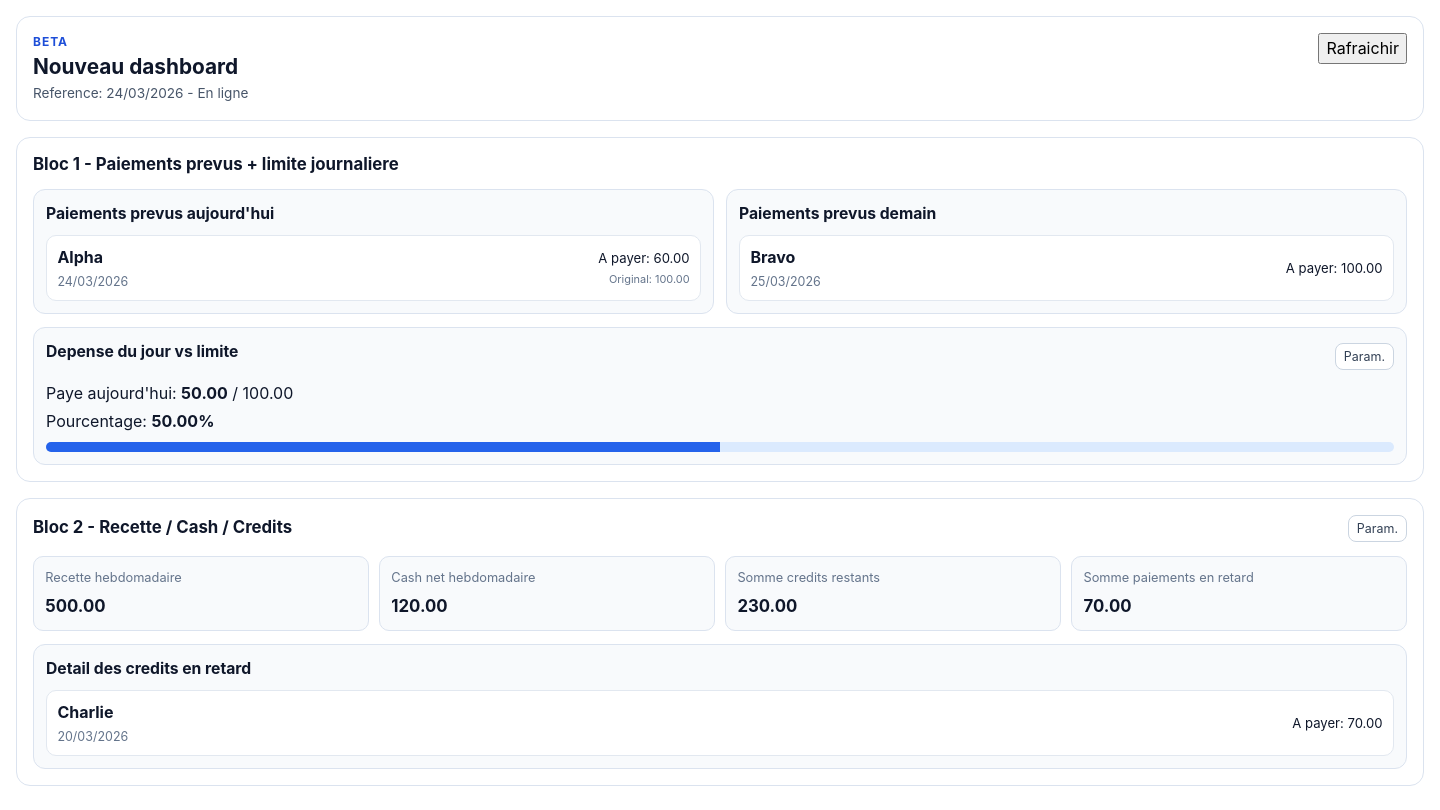
Test: DashboardNext › saves and clears the daily limit from modal
Check: the heading "Depense du jour vs limite" is shown, box [46,340,238,365]
Click the button with aria-label "Parametres limite quotidienne" at (1364, 357), box [1335,343,1394,370]
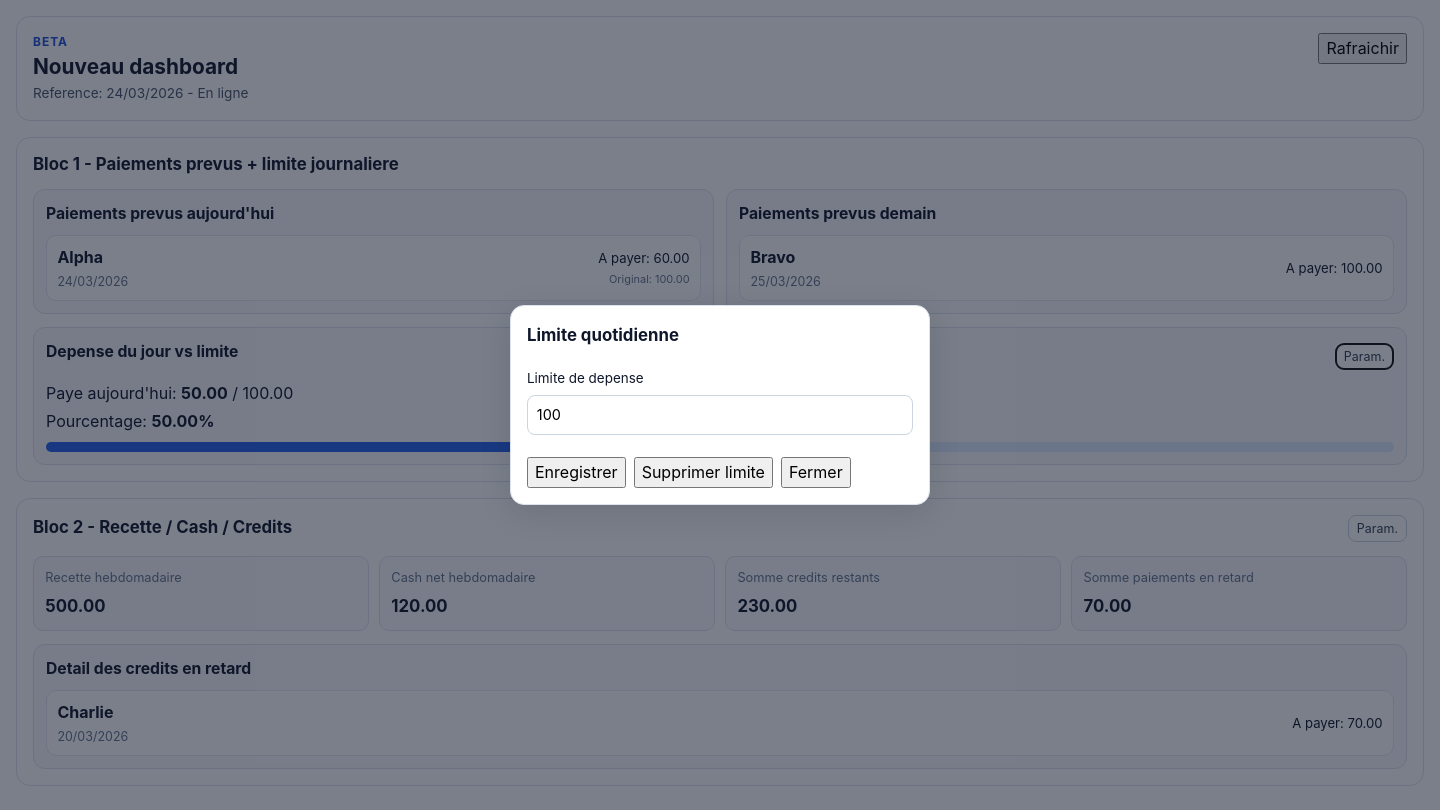
Check: the number field labelled "Limite de depense" holds "100"
Replace the text in the number field labelled "Limite de depense" with "200" at (720, 415), box [527,395,913,435]
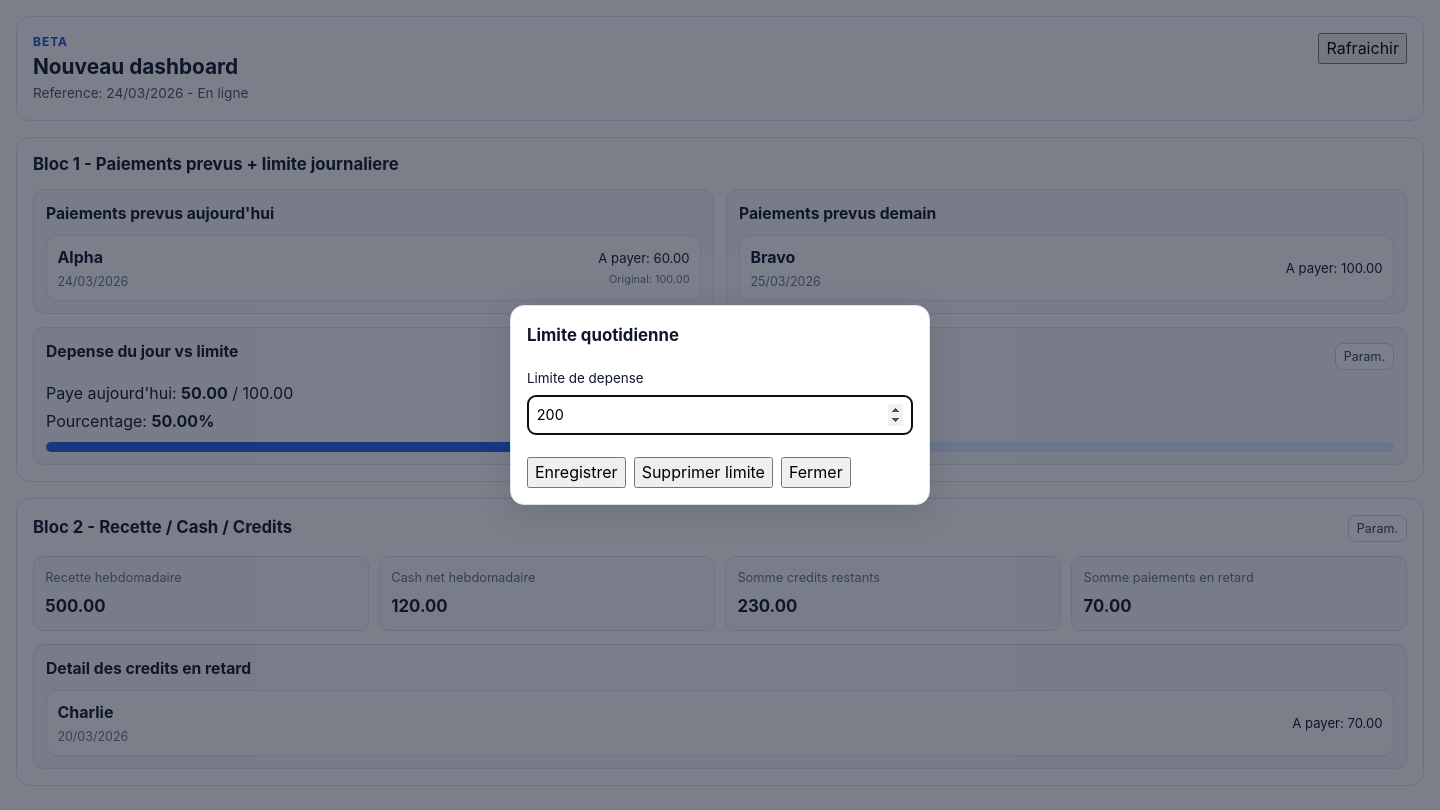
Click the button "Enregistrer" at (576, 472), box [527,457,626,488]
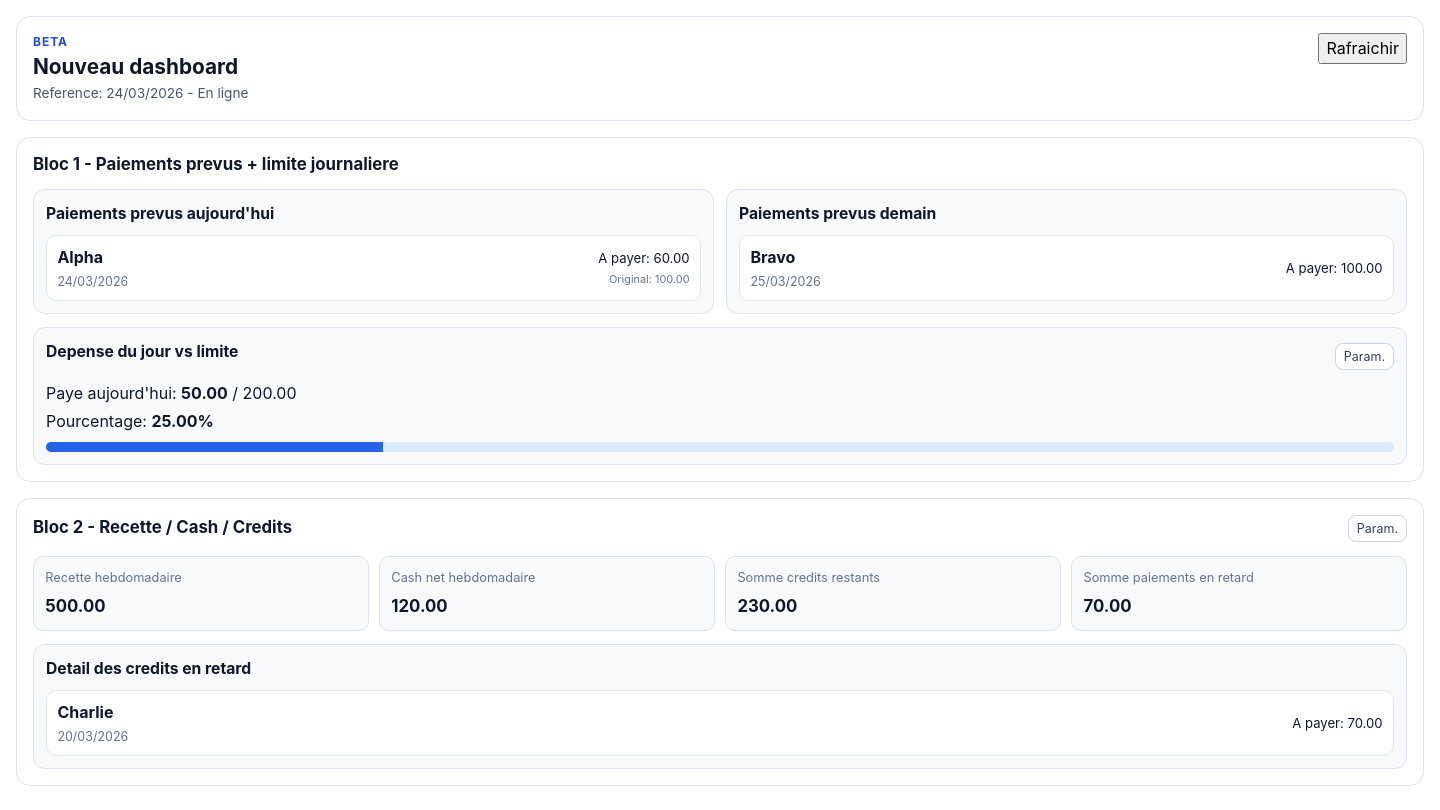
Check: the text "Pourcentage: 25.00%" is shown, box [46,411,214,431]
Click the button with aria-label "Parametres limite quotidienne" at (1364, 357), box [1335,343,1394,370]
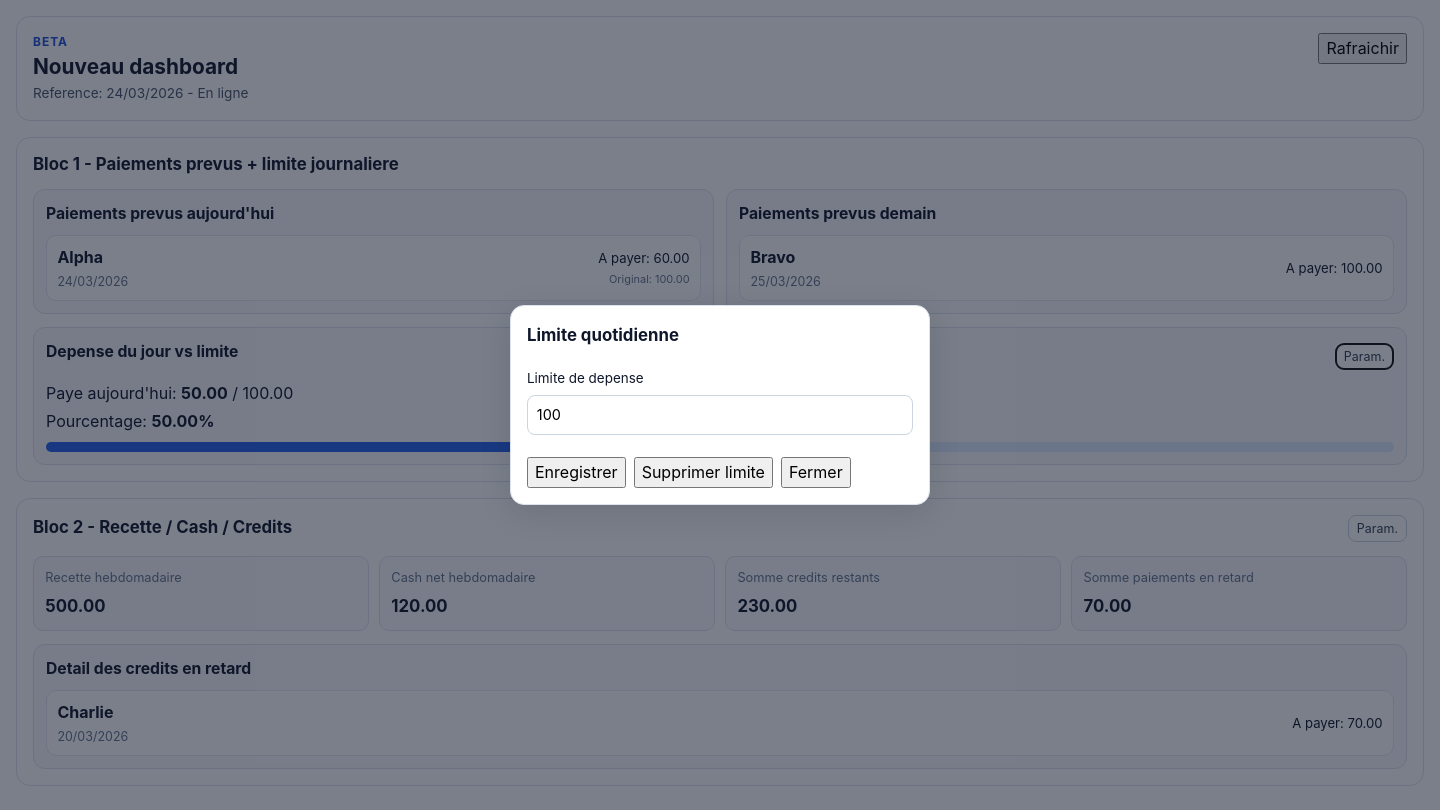
Click the button "Supprimer limite" at (703, 472), box [634,457,773,488]
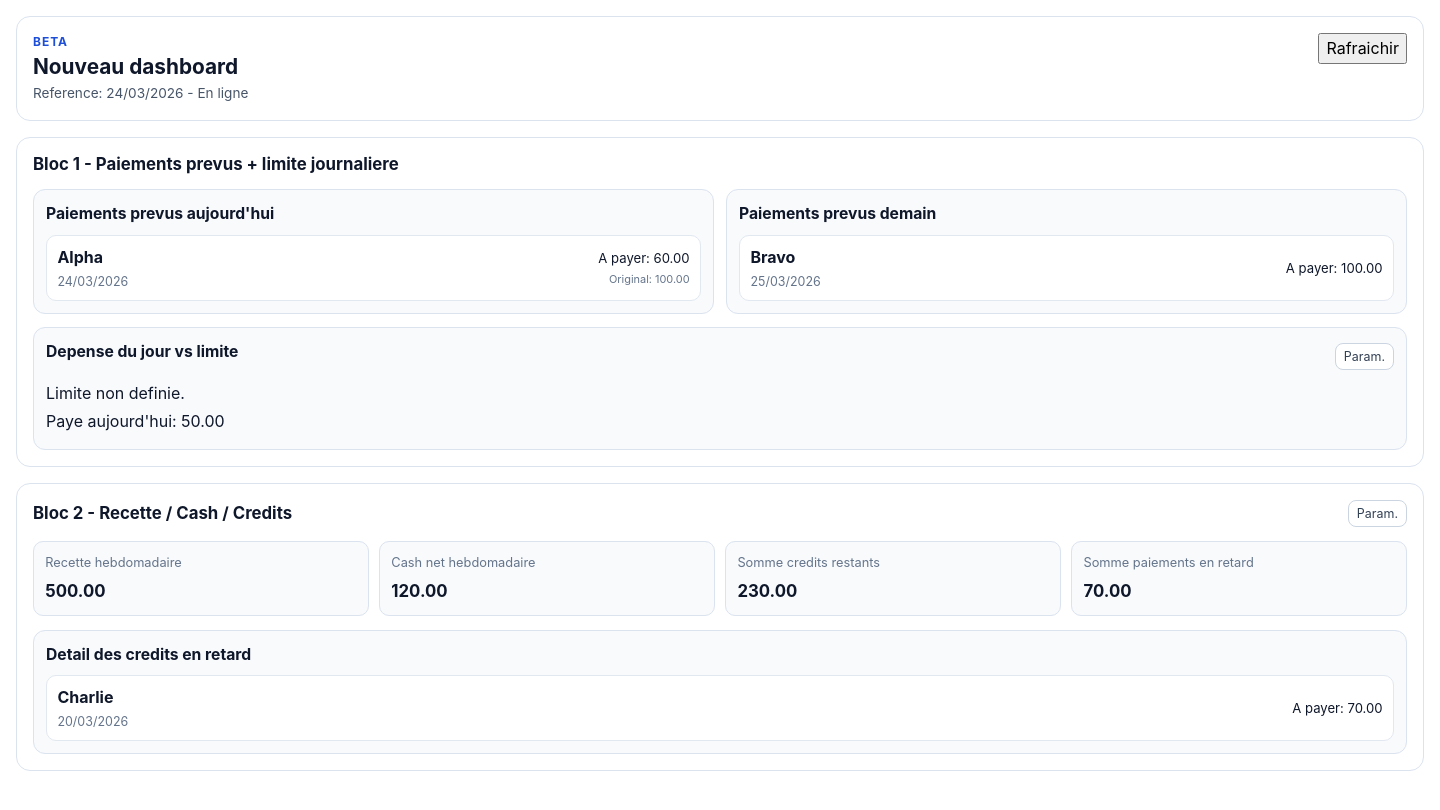
Check: the text "Limite non definie." is shown, box [46,383,185,403]
